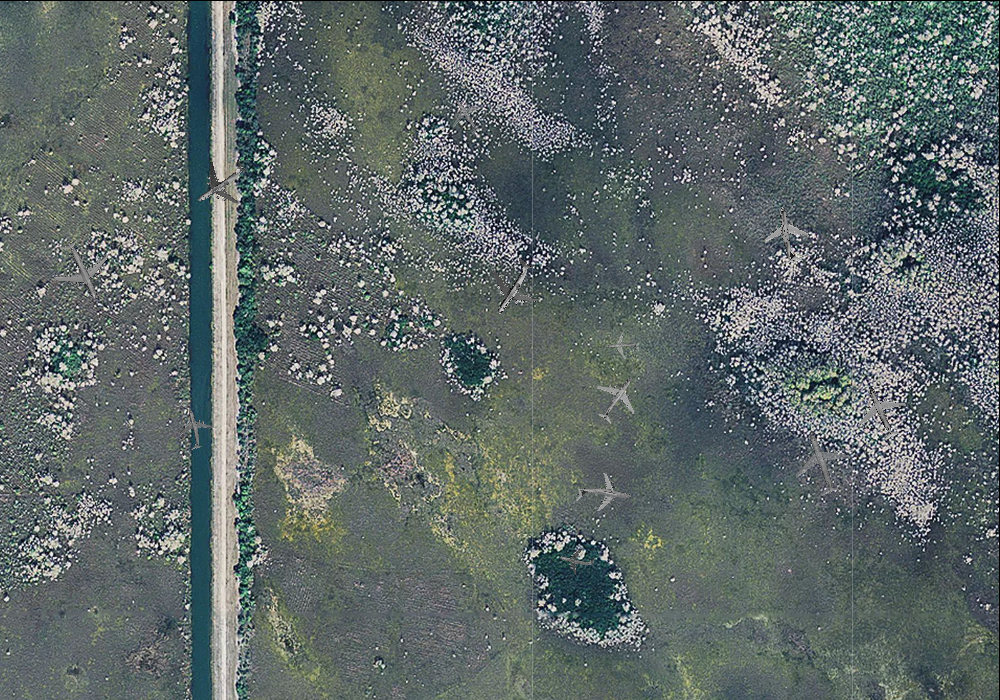plane: (40, 228, 122, 311), (472, 246, 553, 328), (782, 423, 861, 504), (181, 143, 260, 221), (846, 376, 916, 449), (583, 363, 652, 433), (759, 203, 818, 266), (572, 466, 635, 523), (440, 88, 493, 141), (170, 405, 216, 453), (555, 540, 598, 580), (604, 329, 640, 363)
